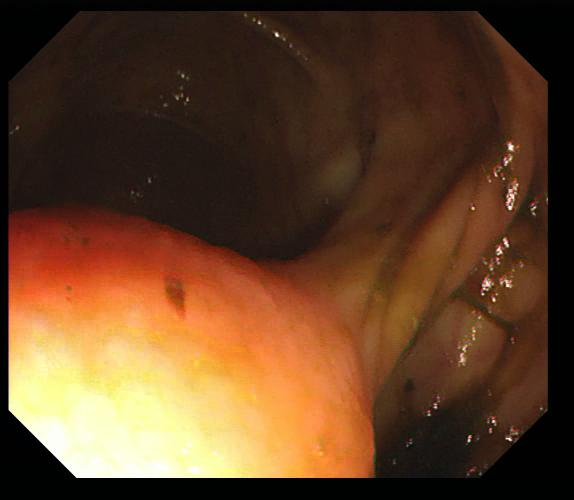polyp: (6, 207, 377, 477)
